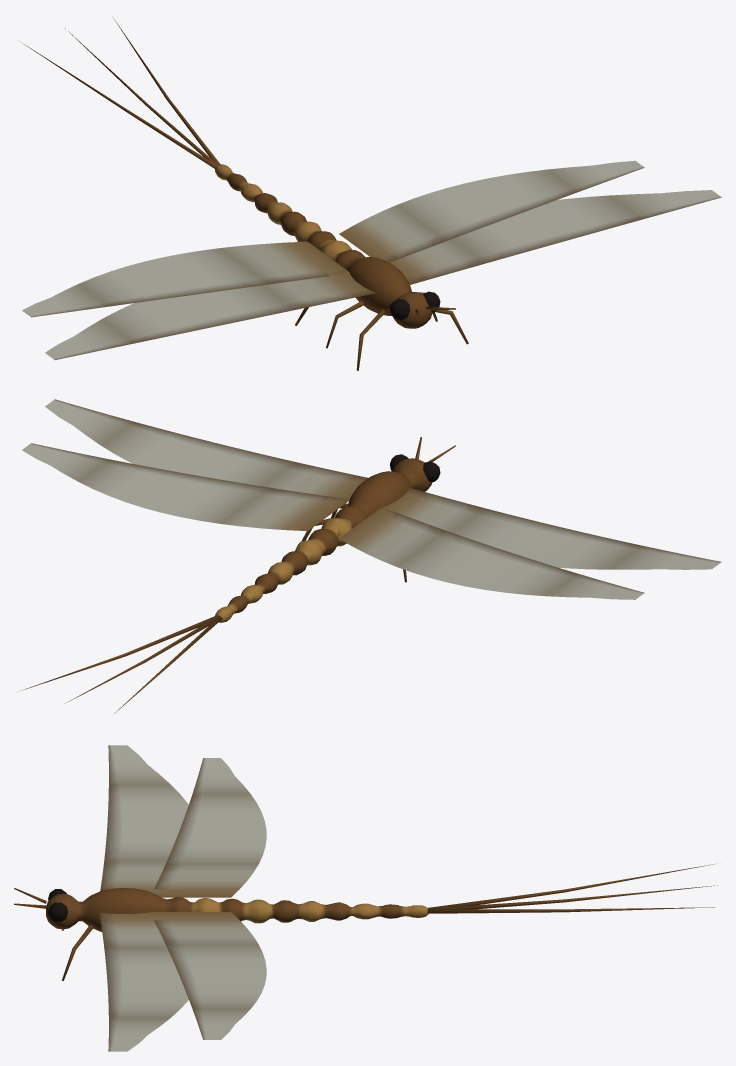
The model's file is Protereisma.fbx.
3 views of the same model, one above another, from view 1: azimuth 30°, elevation 25°; view 2: azimuth 150°, elevation 25°; view 3: azimuth 270°, elevation 25° (orthographic). The views are drawn at different scales.
Visible parts, largest first — view 1: Protereisma; view 2: Protereisma; view 3: Protereisma.
Part boxes in pixels (x1,y1,x2,y2): Protereisma: [21, 18, 721, 370]; Protereisma: [21, 399, 721, 713]; Protereisma: [14, 745, 717, 1051].
Bounding box in the file's own units: 1.24 × 0.1341 × 1.21.
